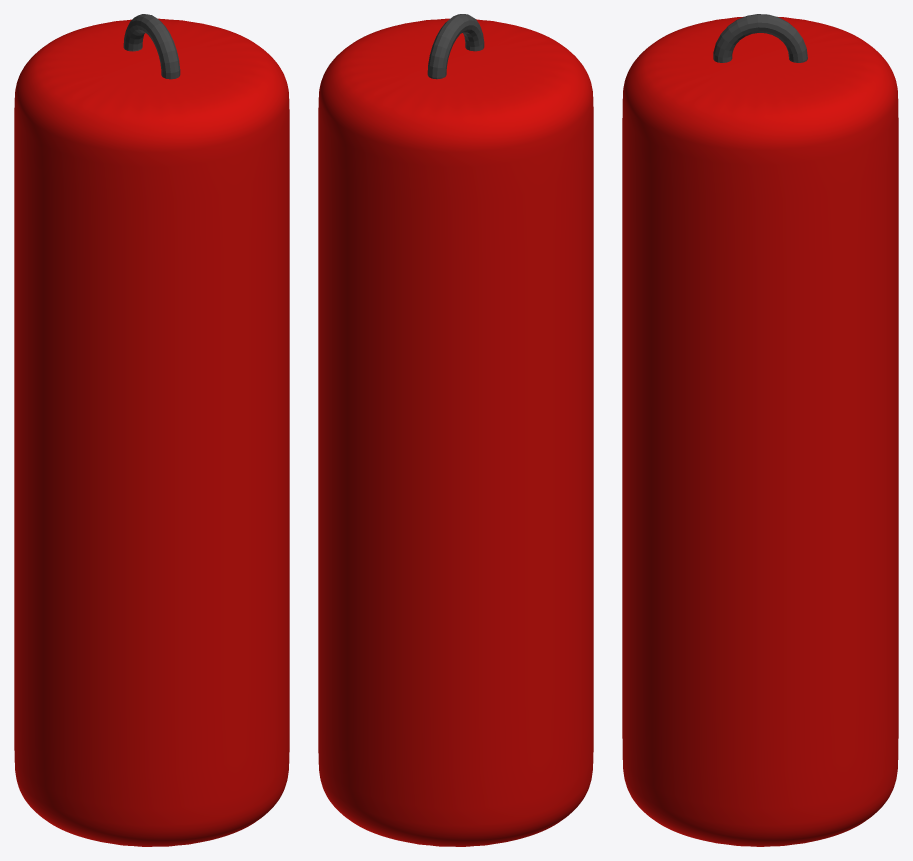
The model's file is frpnchbg.fbx.
3 renders of one model, left to right at view 1: azimuth 30°, elevation 25°; view 2: azimuth 150°, elevation 25°; view 3: azimuth 270°, elevation 25°, orthographic.
Parts seen in each view (by area): view 1: Cylinder, Torus.010; view 2: Cylinder, Torus.010; view 3: Cylinder, Torus.010.
Part boxes in pixels (x1,y1,x2,y2): Cylinder: (14, 18, 289, 846); Torus.010: (123, 14, 180, 79); Cylinder: (318, 18, 593, 846); Torus.010: (427, 14, 484, 79); Cylinder: (622, 16, 898, 846); Torus.010: (713, 14, 807, 62).
Size of the model in its own units: 209 by 660 by 209.
